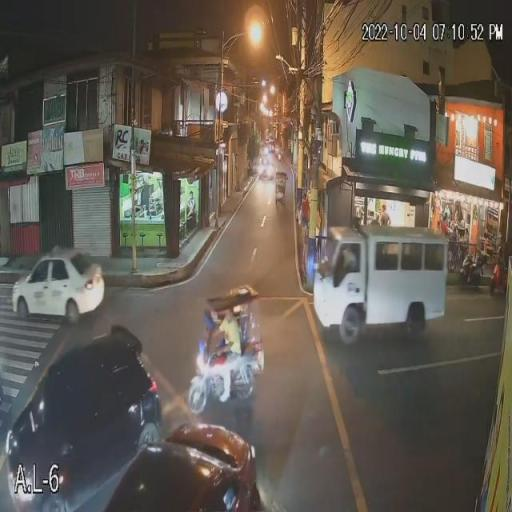motorcycle: (172, 340, 272, 404), (456, 249, 492, 294)
rider: (220, 309, 238, 402)
